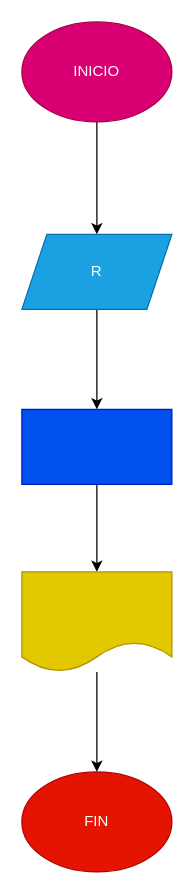
Image size: 194x894. Some labels were removed from this diagram. Here are the shapes that lost their labels. From the top down, the centre of each, then its label:
At point (96, 446): "A: PI*R 2 P: 2*PI*R".
At point (96, 621): "A, P".
